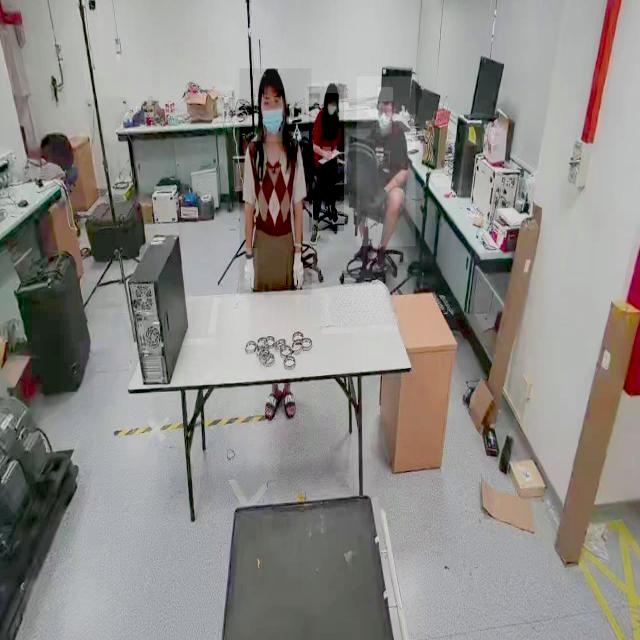face_mask: (254, 97, 284, 141), (376, 106, 392, 133), (327, 97, 341, 120)
hand_glove: (290, 251, 308, 295), (244, 248, 258, 291)
hand_noglove: (382, 180, 394, 193), (322, 147, 332, 160)
head_nohelmet: (258, 66, 284, 90), (378, 87, 393, 102), (324, 81, 338, 94)
person: (240, 68, 312, 296), (356, 77, 416, 247), (309, 86, 345, 232)
